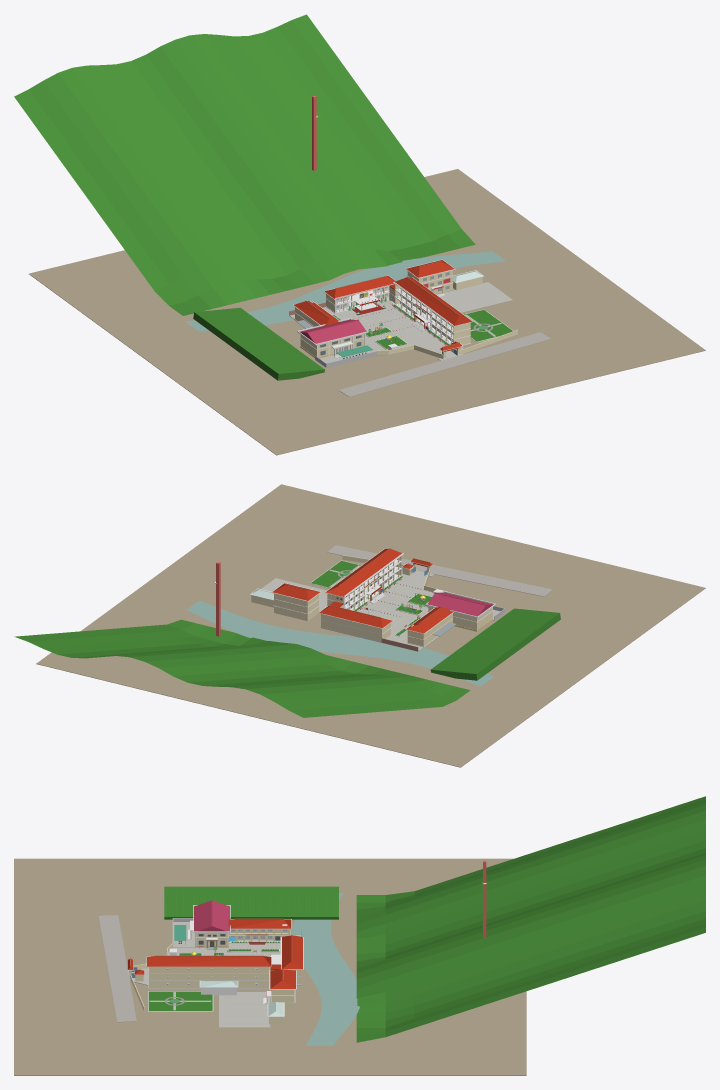
The model's file is school_campus.glb.
3 views of the same model, one above another, from view 1: azimuth 30°, elevation 25°; view 2: azimuth 150°, elevation 25°; view 3: azimuth 270°, elevation 25° (orthographic). The views are drawn at different scales.
Visible parts, largest first — view 1: ENV_BackgroundHill, ENV_OuterGround_Base, ENV_WestFoliageSlope, ENV_WindingStream, ENV_Courtyard_Ground, ENV_MainRoad_Surface, BLD_D_SecondaryYard, BLD_A_Roof, BLD_C1_Gym_Roof, ENV_EastGarden_Lawn; view 2: ENV_OuterGround_Base, ENV_BackgroundHill, ENV_WindingStream, ENV_WestFoliageSlope, ENV_Courtyard_Ground, ENV_MainRoad_Surface, BLD_A_Roof, BLD_D_Body, BLD_C1_Gym_Roof, BLD_B_RearWall, BLD_B_Roof, BLD_C2_Annex_Roof (+4 smaller); view 3: ENV_OuterGround_Base, ENV_BackgroundHill, ENV_WestFoliageSlope, ENV_WindingStream, BLD_A_RearWall, ENV_MainRoad_Surface, BLD_D_SecondaryYard, BLD_A_Roof, ENV_EastGarden_Lawn, ENV_Courtyard_Ground, BLD_C1_Gym_Roof, BLD_B_Roof (+2 smaller).
Part boxes in pixels (<box>): ENV_BackgroundHill: <box>14,14,475,315</box>; ENV_OuterGround_Base: <box>29,169,705,455</box>; ENV_WestFoliageSlope: <box>193,307,324,380</box>; ENV_WindingStream: <box>185,251,505,331</box>; ENV_Courtyard_Ground: <box>289,300,463,358</box>; ENV_MainRoad_Surface: <box>339,332,550,396</box>; BLD_D_SecondaryYard: <box>436,282,512,312</box>; BLD_A_Roof: <box>395,277,472,326</box>; BLD_C1_Gym_Roof: <box>300,319,366,343</box>; ENV_EastGarden_Lawn: <box>464,310,512,341</box>; ENV_OuterGround_Base: <box>36,484,705,767</box>; ENV_BackgroundHill: <box>14,619,470,717</box>; ENV_WindingStream: <box>187,600,493,686</box>; ENV_WestFoliageSlope: <box>430,608,560,680</box>; ENV_Courtyard_Ground: <box>320,571,436,651</box>; ENV_MainRoad_Surface: <box>327,545,552,596</box>; BLD_A_Roof: <box>325,548,402,596</box>; BLD_D_Body: <box>274,593,318,621</box>; BLD_C1_Gym_Roof: <box>427,592,493,616</box>; BLD_B_RearWall: <box>321,614,381,641</box>; BLD_B_Roof: <box>319,605,392,628</box>; BLD_C2_Annex_Roof: <box>406,606,452,633</box>; ENV_OuterGround_Base: <box>14,858,526,1075</box>; ENV_BackgroundHill: <box>356,796,705,1042</box>; ENV_WestFoliageSlope: <box>164,886,338,919</box>; ENV_WindingStream: <box>291,893,359,1045</box>; BLD_A_RearWall: <box>149,967,268,988</box>; ENV_MainRoad_Surface: <box>98,915,136,1022</box>; BLD_D_SecondaryYard: <box>219,992,270,1027</box>; BLD_A_Roof: <box>147,956,271,966</box>; ENV_EastGarden_Lawn: <box>148,991,212,1010</box>; ENV_Courtyard_Ground: <box>131,943,301,985</box>; BLD_C1_Gym_Roof: <box>194,900,229,931</box>; BLD_B_Roof: <box>282,935,302,969</box>.
Size of the model in its own units: 220 by 69.05 by 297.
66 materials, 16 textured.
